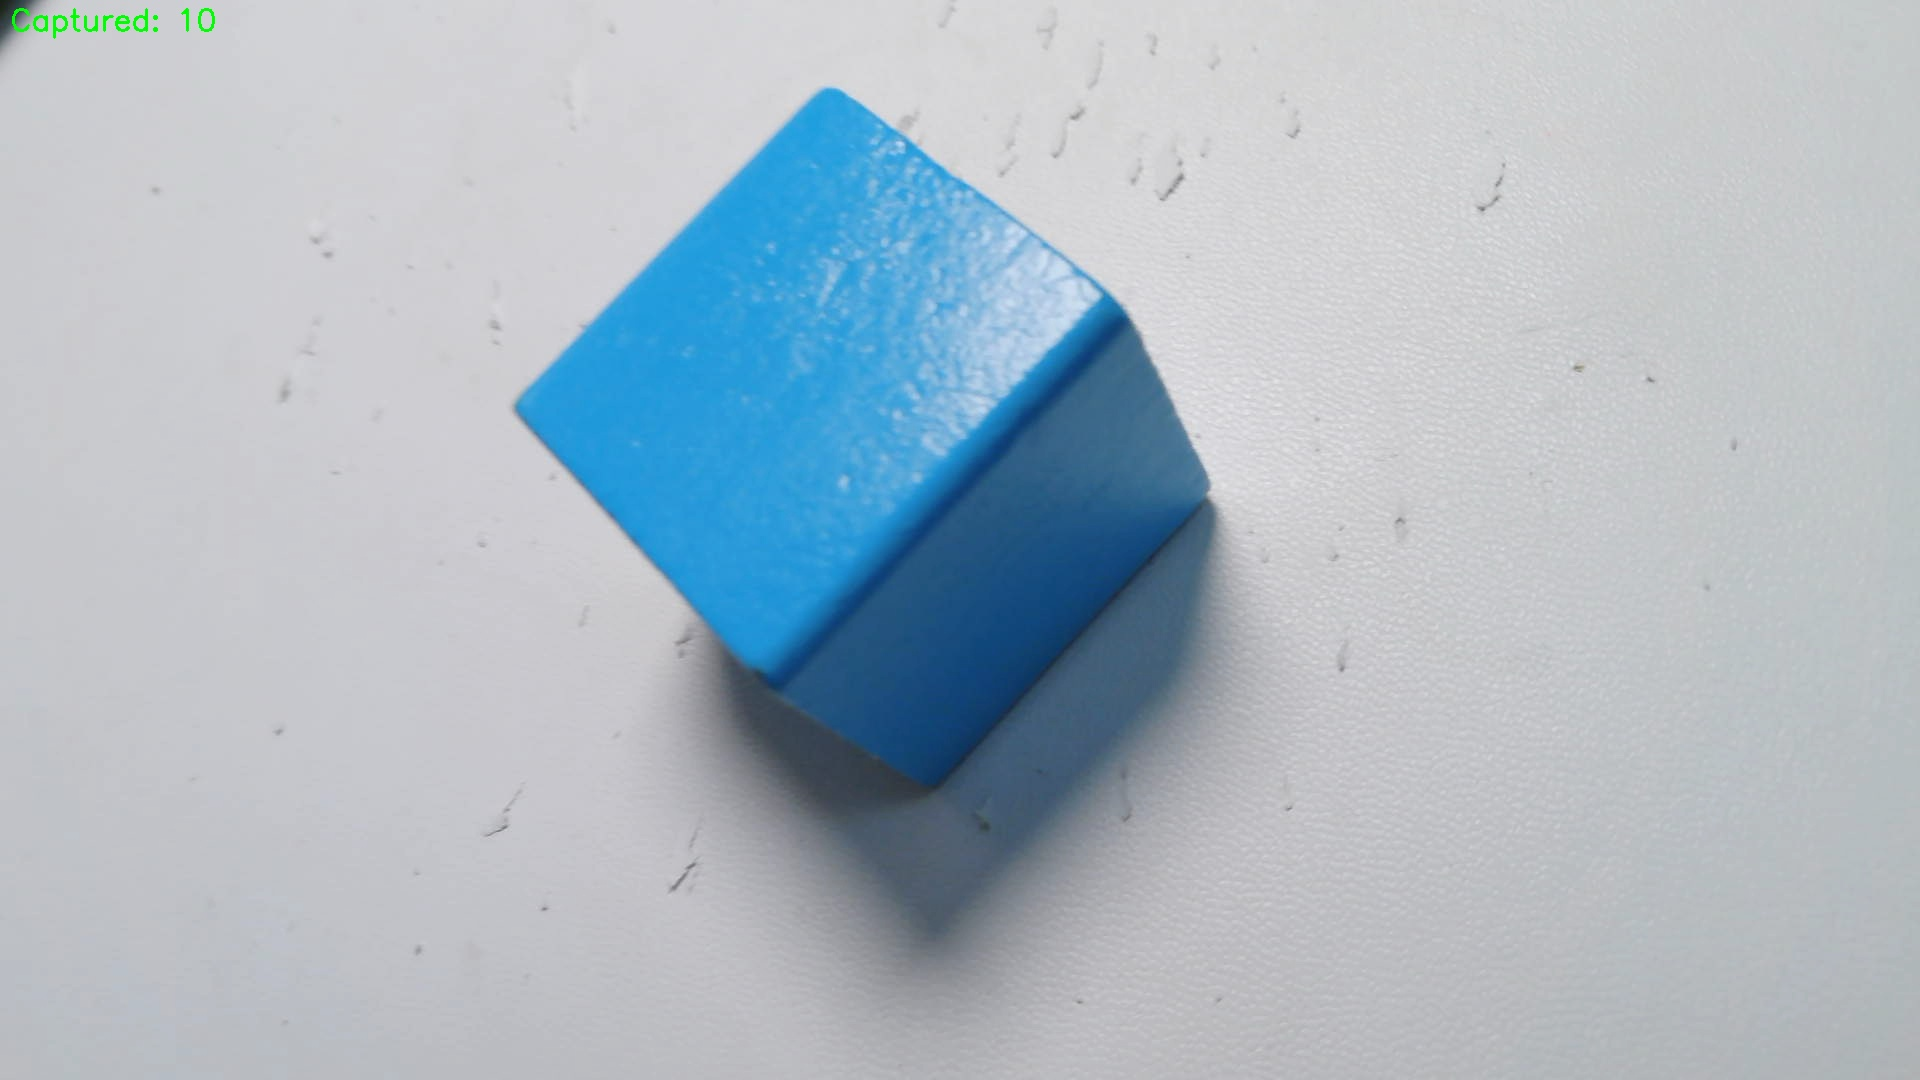blue: (517, 87, 1215, 790)
